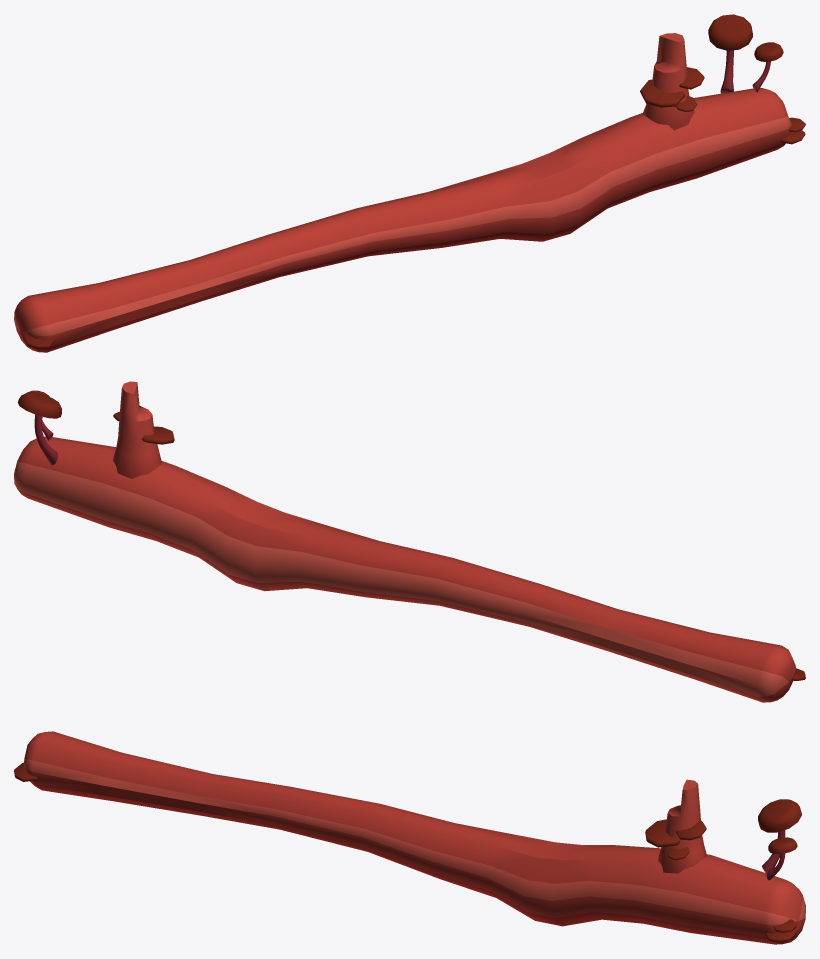
Rendered from Branch UI.fbx.
3 renders of one model, top to bottom at view 1: azimuth 30°, elevation 25°; view 2: azimuth 150°, elevation 25°; view 3: azimuth 330°, elevation 25°, orthographic.
Visible parts, largest first — view 1: pCylinder14; view 2: pCylinder14; view 3: pCylinder14.
Part boxes in pixels (bbox=[...]): pCylinder14: bbox=[14, 14, 805, 352]; pCylinder14: bbox=[14, 381, 805, 702]; pCylinder14: bbox=[14, 731, 805, 944].
Size of the model in its own units: 509 by 56.07 by 105.
